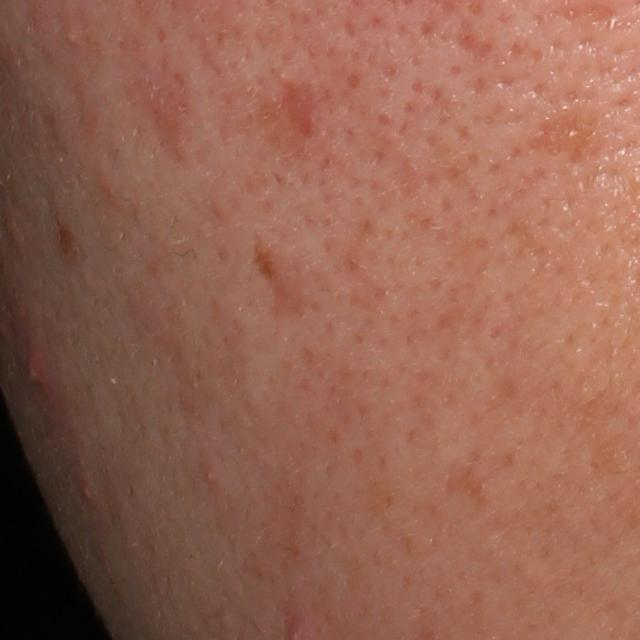atrophic_scar: (524, 114, 609, 172), (275, 75, 317, 146), (441, 456, 495, 511), (453, 16, 498, 63)
papule: (17, 350, 45, 390), (201, 463, 222, 487), (80, 481, 96, 502)
